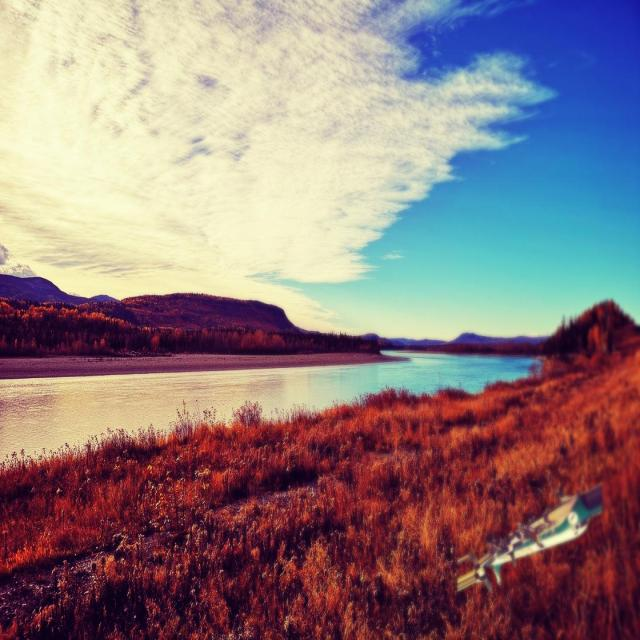airplane: (454, 482, 603, 596)
